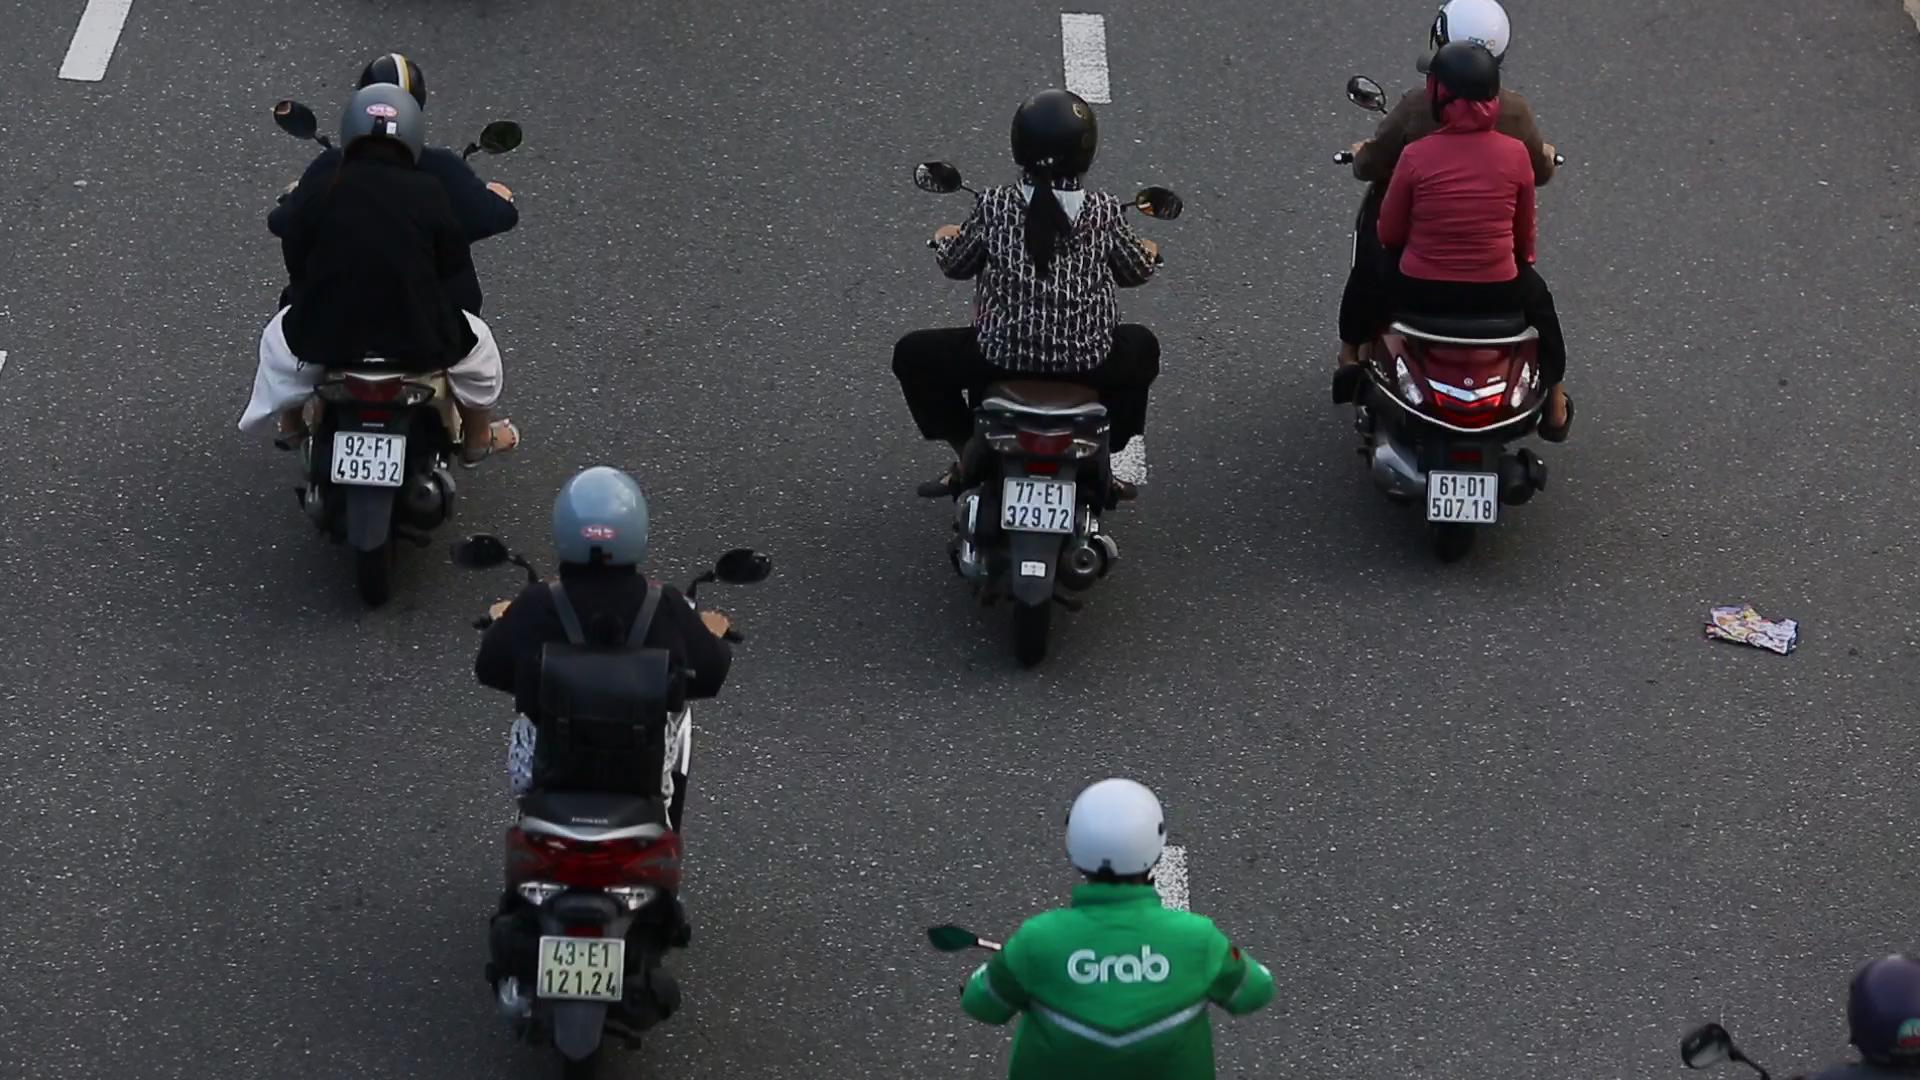motobike: (451, 464, 777, 1080), (874, 63, 1166, 698), (1308, 0, 1609, 611), (232, 32, 524, 626)
